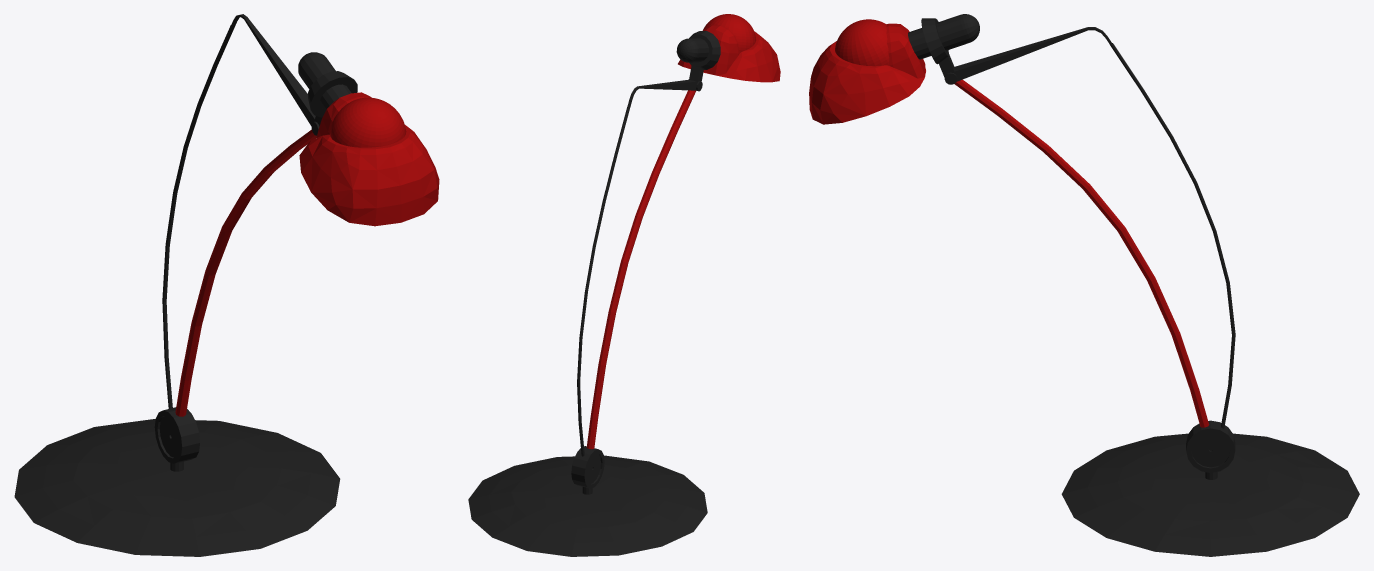
The model's file is desk_lamp2.obj.
3 renders of one model, left to right at view 1: azimuth 30°, elevation 25°; view 2: azimuth 150°, elevation 25°; view 3: azimuth 270°, elevation 25°, orthographic. The views are drawn at different scales.
Visible parts, largest first — view 1: jandrusOne_Plane.003, JandrusTwo_Sphere.001; view 2: jandrusOne_Plane.003, JandrusTwo_Sphere.001; view 3: jandrusOne_Plane.003, JandrusTwo_Sphere.001.
Boxes of the visible parts, left/top/right/bottom form: jandrusOne_Plane.003: left=14, top=25, right=439, bottom=556; JandrusTwo_Sphere.001: left=154, top=14, right=406, bottom=471; jandrusOne_Plane.003: left=468, top=25, right=780, bottom=556; JandrusTwo_Sphere.001: left=571, top=14, right=756, bottom=494; jandrusOne_Plane.003: left=809, top=23, right=1359, bottom=556; JandrusTwo_Sphere.001: left=835, top=14, right=1235, bottom=479.
Size of the model in its own units: 2.28 by 4.06 by 4.24.
